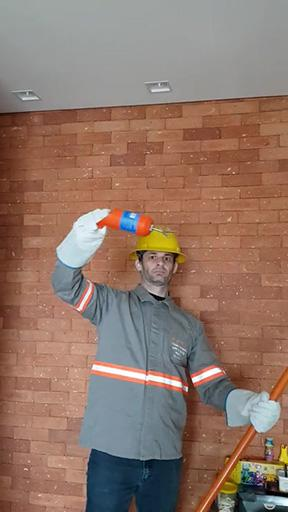Detector_Tensao_Contato: (94, 205, 175, 241)
